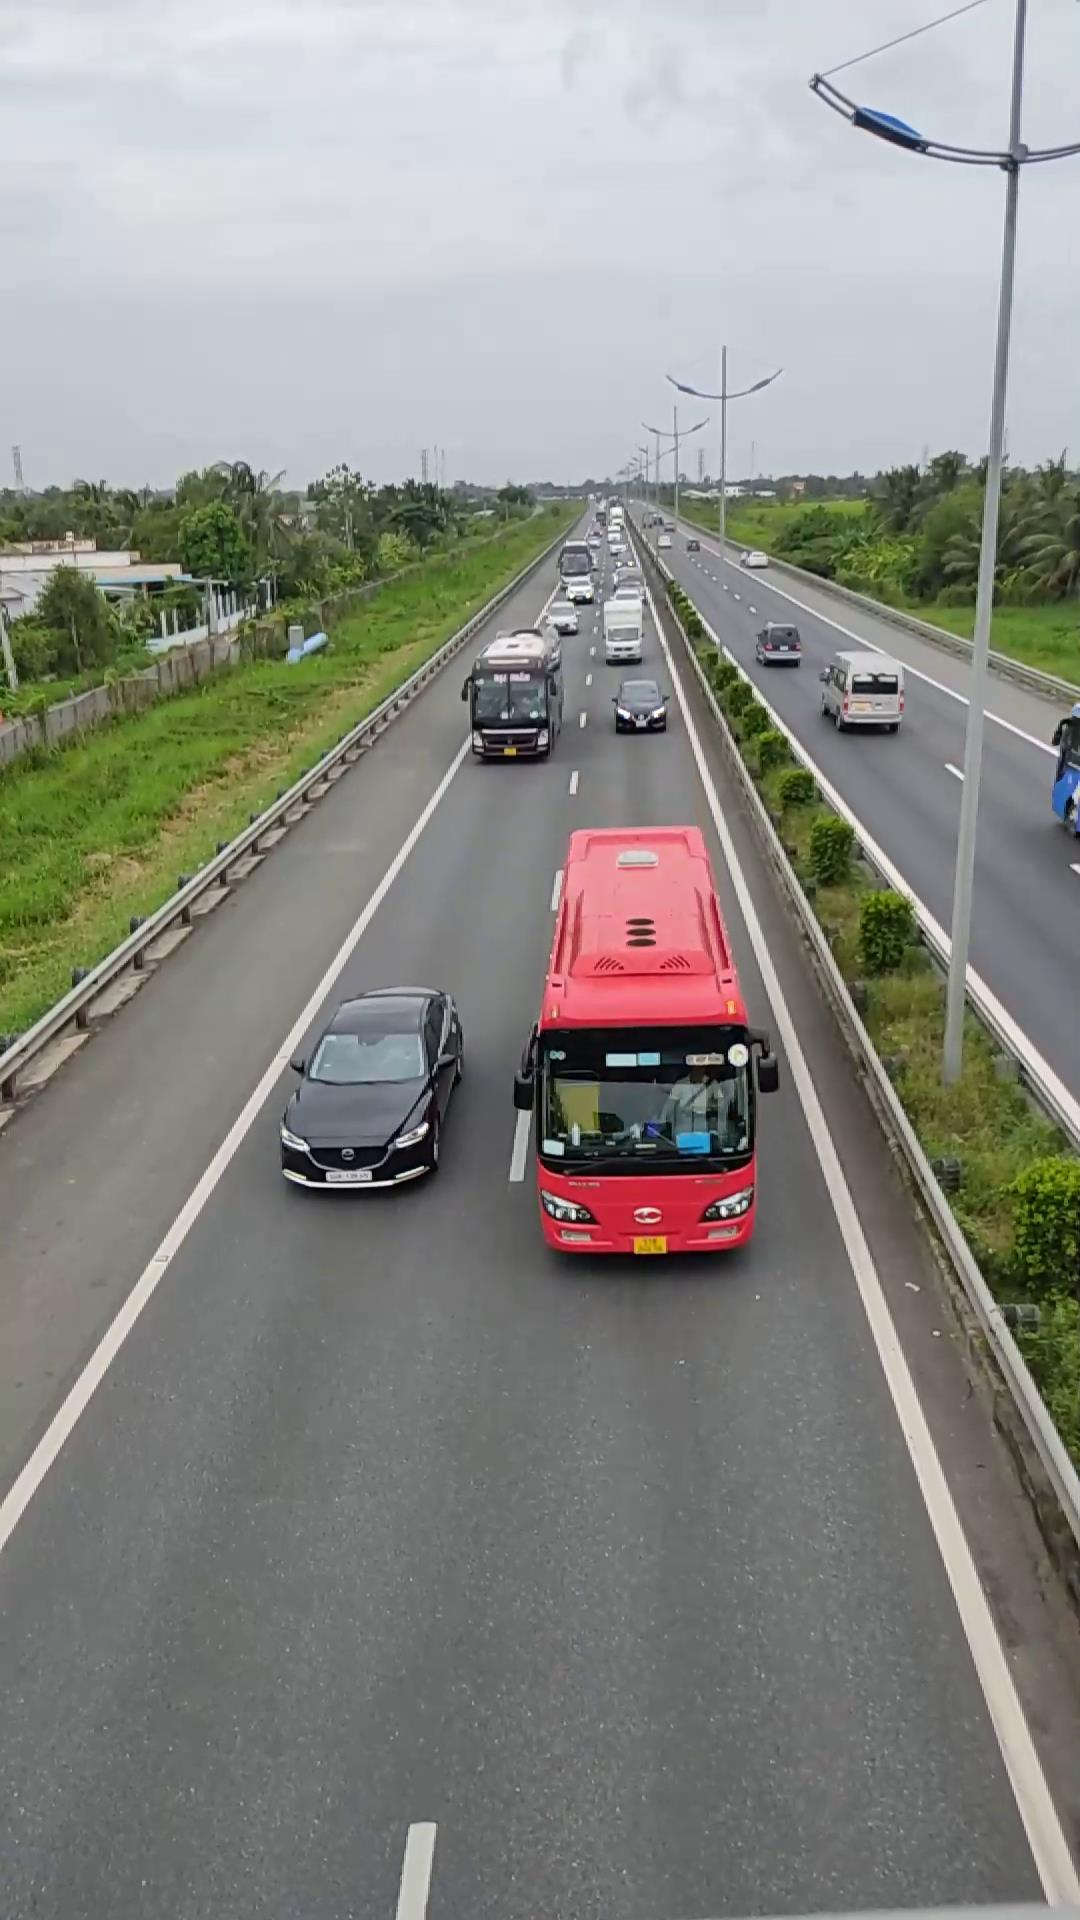bus: (514, 816, 770, 1261), (468, 630, 560, 761)
car: (276, 986, 465, 1191), (818, 646, 906, 731)
